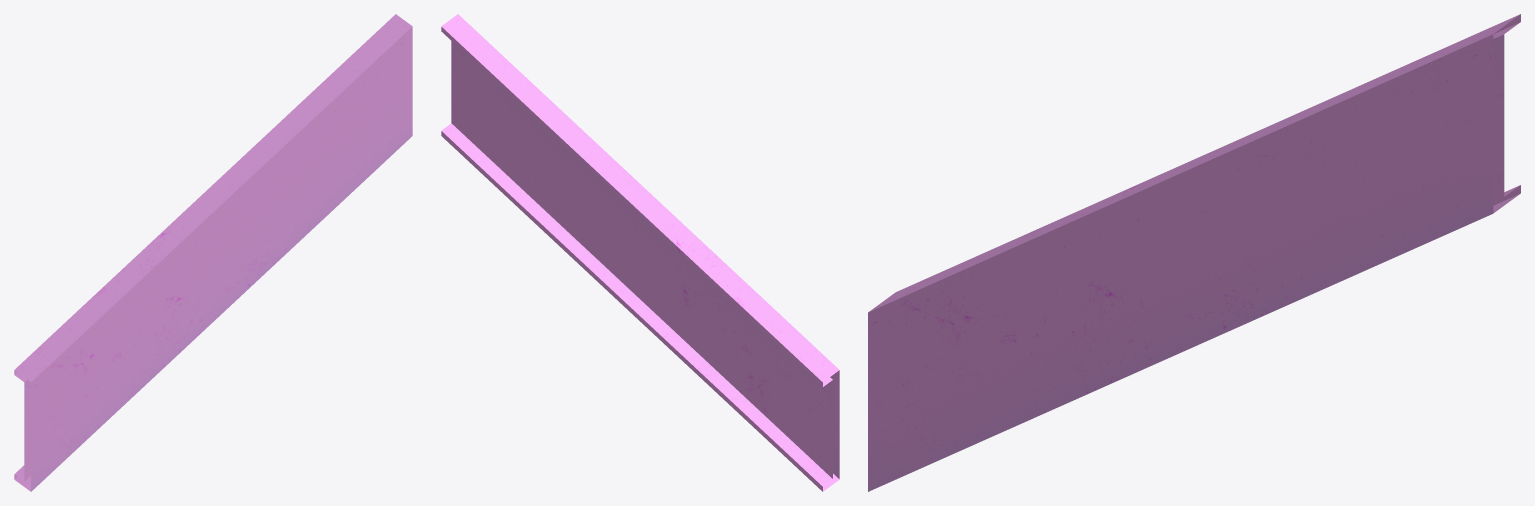
The model's file is SideSupport3Step_01_SM_Low.fbx.
3 views of the same model, side by side, from view 1: azimuth 30°, elevation 25°; view 2: azimuth 150°, elevation 25°; view 3: azimuth 330°, elevation 25° (orthographic). The views are drawn at different scales.
Visible parts, largest first — view 1: SideSupport_3Step_Geo; view 2: SideSupport_3Step_Geo; view 3: SideSupport_3Step_Geo.
Boxes of the visible parts, left/top/right/bottom form: SideSupport_3Step_Geo: left=14, top=14, right=412, bottom=491; SideSupport_3Step_Geo: left=441, top=14, right=839, bottom=491; SideSupport_3Step_Geo: left=868, top=14, right=1520, bottom=491.
Bounding box in the file's own units: 78.22 × 72.97 × 6.
1 material, 1 textured.
